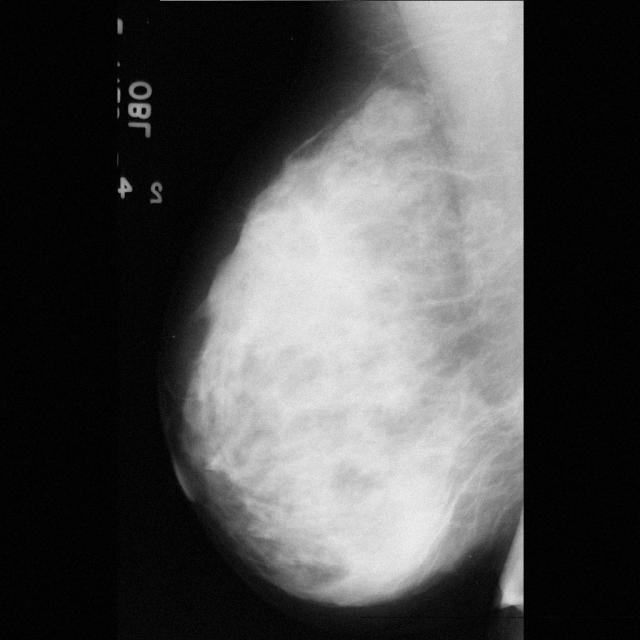CALC: (378, 143, 428, 193)
